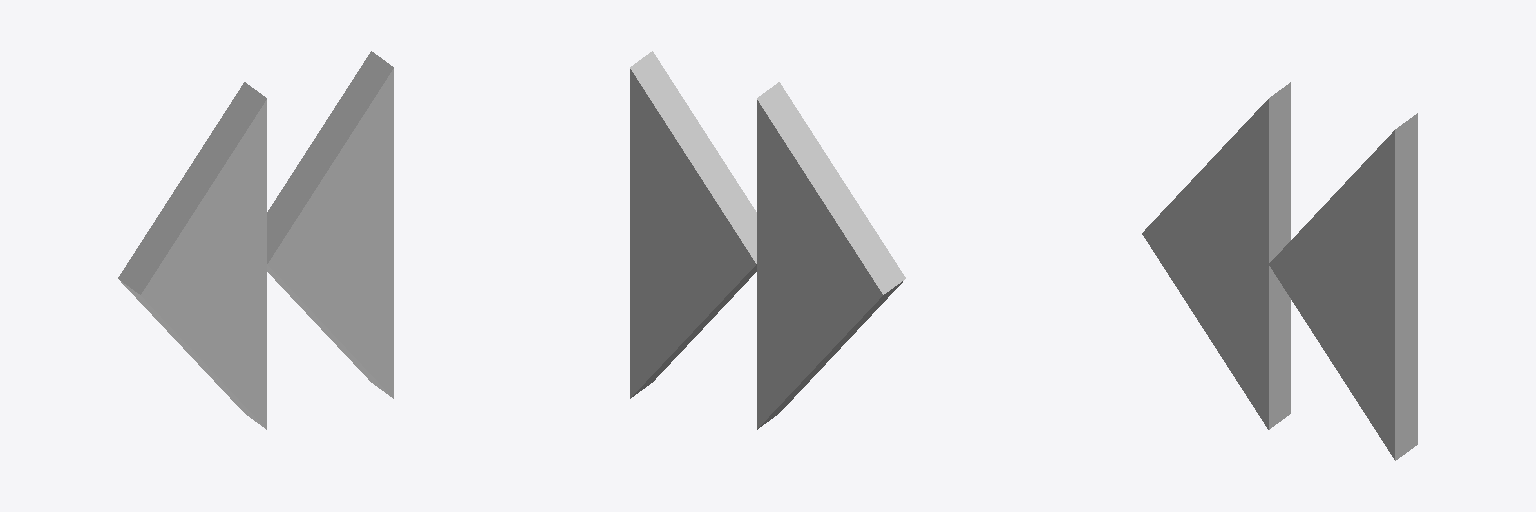
File: speed.obj
3 renders of one model, left to right at view 1: azimuth 30°, elevation 25°; view 2: azimuth 150°, elevation 25°; view 3: azimuth 330°, elevation 25°, orthographic.
Visible parts, largest first — view 1: speed_Plane; view 2: speed_Plane; view 3: speed_Plane.
Part boxes in pixels (bbox=[...]): speed_Plane: bbox=[118, 51, 393, 429]; speed_Plane: bbox=[630, 51, 905, 429]; speed_Plane: bbox=[1142, 82, 1417, 460].
Bounding box in the file's own units: 0.8 × 1 × 0.125.